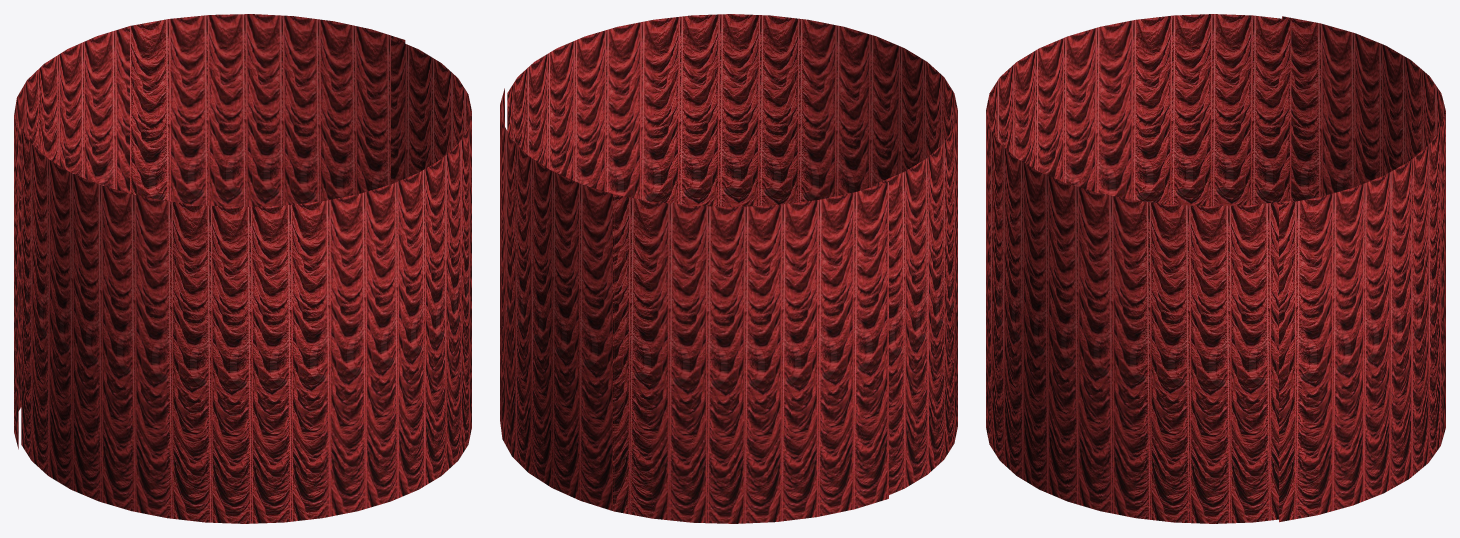
File: CURTAIN_ANIMAATED.FBX
The picture shows the model from 3 angles, left to right: view 1: azimuth 30°, elevation 25°; view 2: azimuth 150°, elevation 25°; view 3: azimuth 270°, elevation 25°; orthographic projection.
Parts seen in each view (by area): view 1: Cylinder015, Object685, Object684; view 2: Cylinder015, Object684, Object685; view 3: Cylinder015, Object685, Object684.
Part boxes in pixels (<box>): Cylinder015: <box>21,38,471,523</box>; Object685: <box>130,14,405,206</box>; Object684: <box>14,26,129,449</box>; Cylinder015: <box>507,14,957,494</box>; Object684: <box>613,182,888,523</box>; Object685: <box>500,88,614,511</box>; Cylinder015: <box>986,14,1291,523</box>; Object685: <box>1279,111,1445,522</box>; Object684: <box>1282,16,1445,202</box>.
Bounding box in the file's own units: 527 × 406 × 533.
